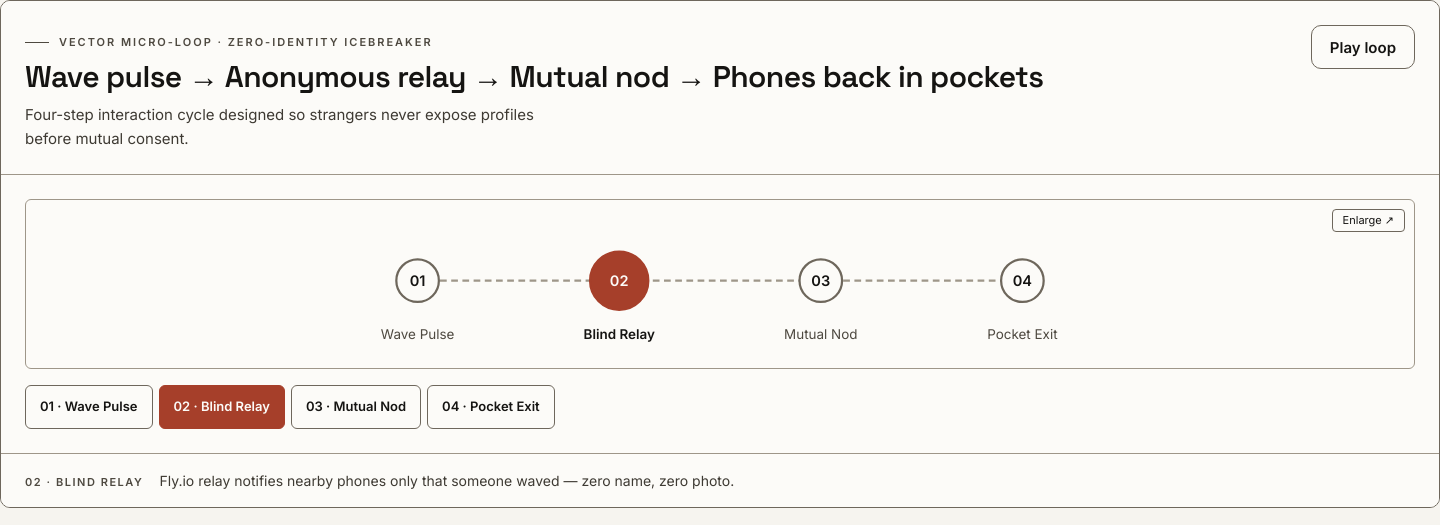
Scenario: Design Process Artifacts › CaseMicroLoop supports explicit Pause/Play and defaults paused under reduced motion
Check: the message shows "02 · Blind Relay", box [1,453,1439,508]
What coordinates should you click on to do the following:
click the button "Play loop"
I would click on:
 (1363, 47)
Its box is [1311,25,1415,69].
Wait 1750 ms
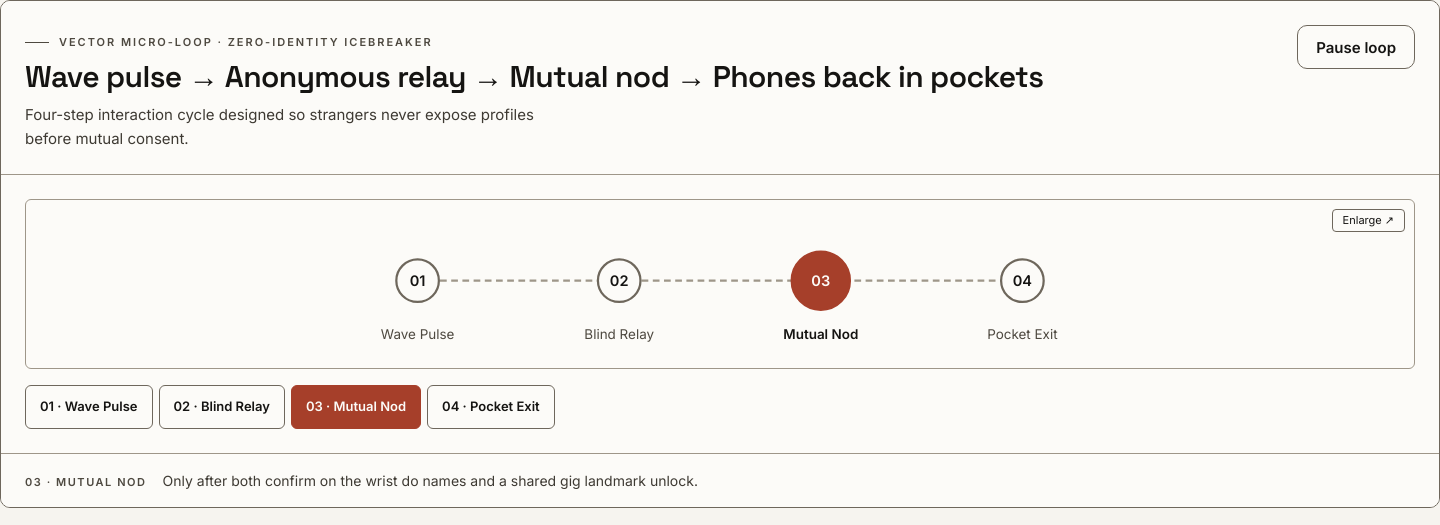
Check: the message shows "03 · Mutual Nod", box [1,453,1439,508]
